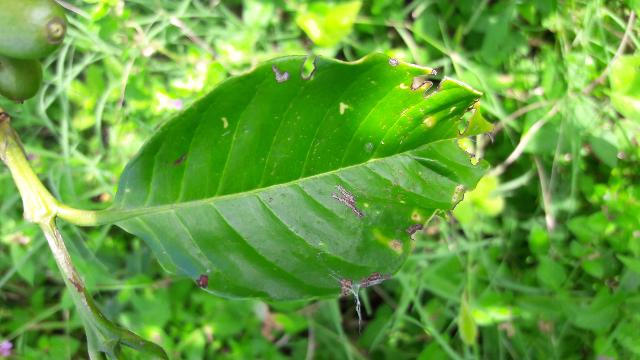rust_level_1: (111, 53, 492, 298)
